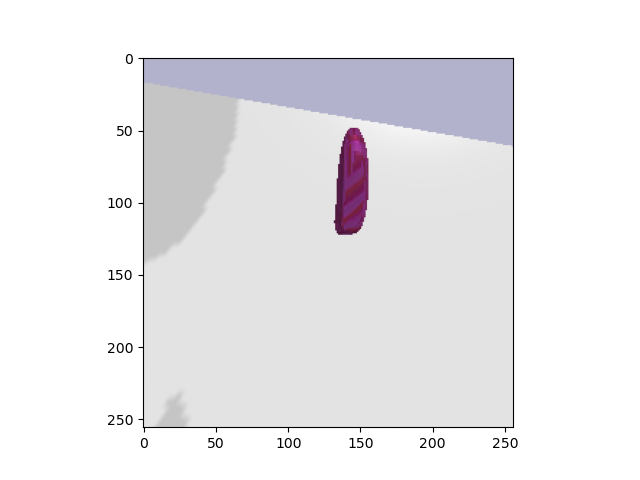v249b387_105: (325, 125, 382, 245)
